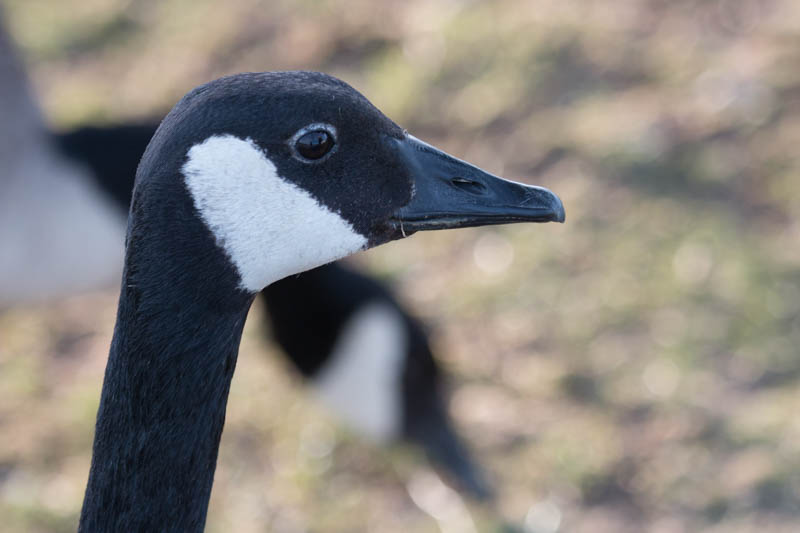goose-head: (119, 70, 567, 291)
